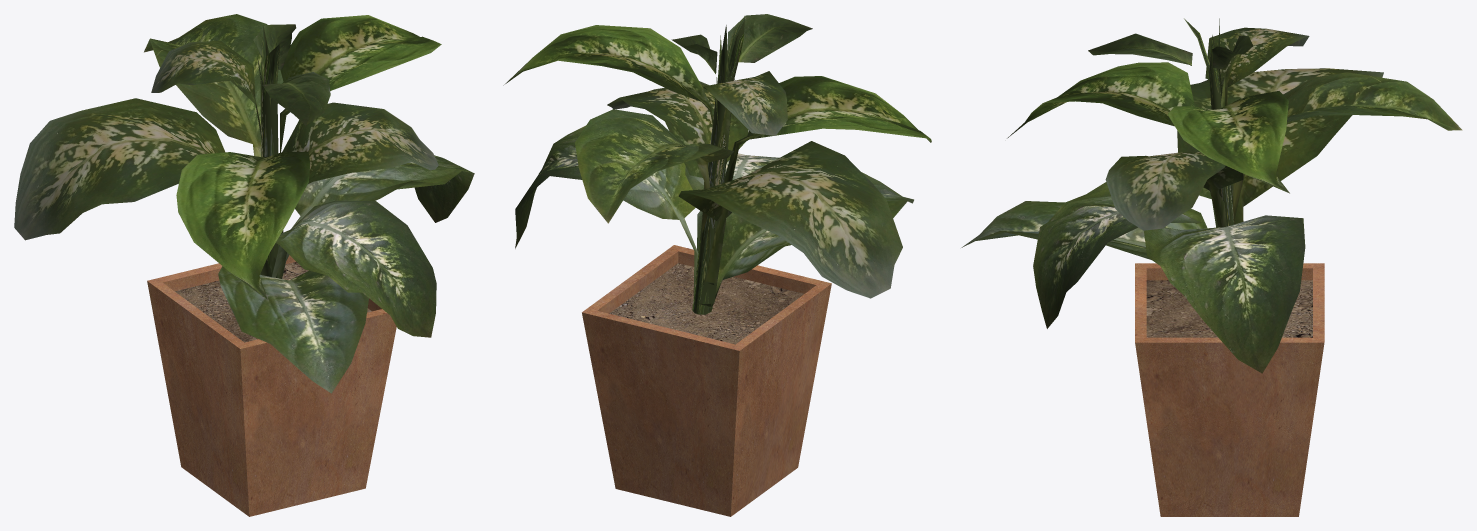
The model's file is Plant 1.FBX.
3 renders of one model, left to right at view 1: azimuth 30°, elevation 25°; view 2: azimuth 150°, elevation 25°; view 3: azimuth 270°, elevation 25°, orthographic. The views are drawn at different scales.
Visible parts, largest first — view 1: Plant 1; view 2: Plant 1; view 3: Plant 1.
Part boxes in pixels (box(x1,y1,x2,y2)): Plant 1: box(14, 14, 474, 516); Plant 1: box(503, 14, 931, 516); Plant 1: box(961, 18, 1462, 516).
Bounding box in the file's own units: 45.68 × 50.28 × 49.07.
